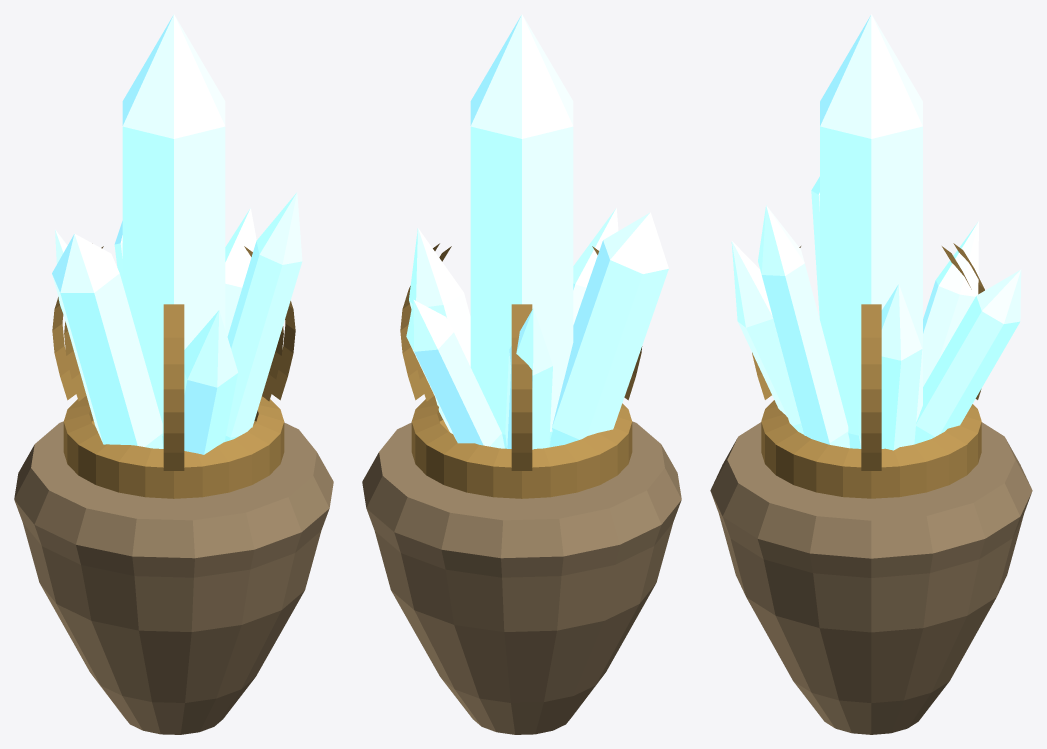
Rendered from crystal_cluster.glb.
The picture shows the model from 3 angles, left to right: view 1: azimuth 30°, elevation 25°; view 2: azimuth 150°, elevation 25°; view 3: azimuth 270°, elevation 25°; orthographic projection.
Visible parts, largest first — view 1: CradleMesh, CrystalMesh; view 2: CradleMesh, CrystalMesh; view 3: CradleMesh, CrystalMesh.
Boxes of the visible parts, x1,y1,x2,y2 form: CradleMesh: [14, 246, 333, 734]; CrystalMesh: [52, 14, 302, 454]; CradleMesh: [362, 243, 681, 734]; CrystalMesh: [406, 14, 668, 449]; CradleMesh: [710, 243, 1032, 734]; CrystalMesh: [731, 14, 1021, 450].
Size of the model in its own units: 0.38 by 0.91 by 0.38.
